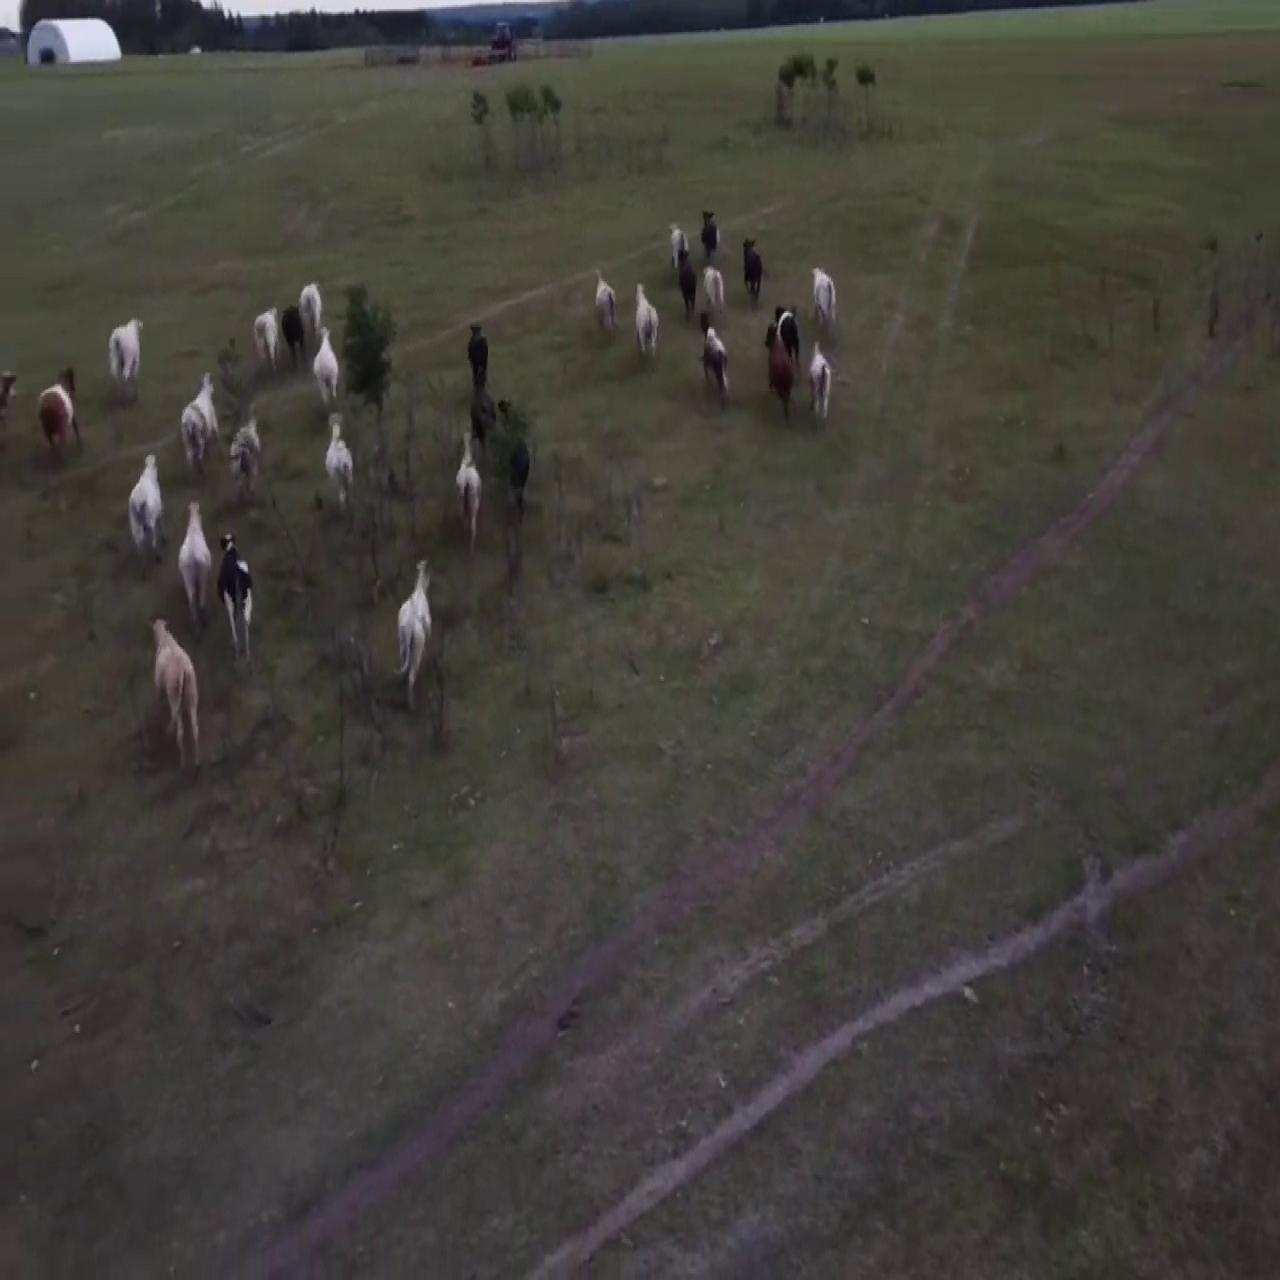cow: (144, 608, 210, 774), (394, 549, 445, 715), (211, 519, 257, 668), (176, 362, 231, 478), (30, 363, 88, 472), (122, 444, 170, 564), (445, 430, 484, 546), (760, 314, 799, 420), (685, 308, 729, 400), (225, 413, 264, 516), (104, 314, 148, 404), (324, 418, 361, 520), (309, 320, 345, 423), (631, 272, 663, 375), (246, 295, 285, 377), (806, 328, 835, 435), (803, 256, 839, 336), (461, 316, 495, 402), (587, 245, 619, 331), (295, 278, 332, 352), (738, 230, 768, 302), (703, 248, 729, 320), (776, 293, 804, 355), (674, 241, 697, 307)
